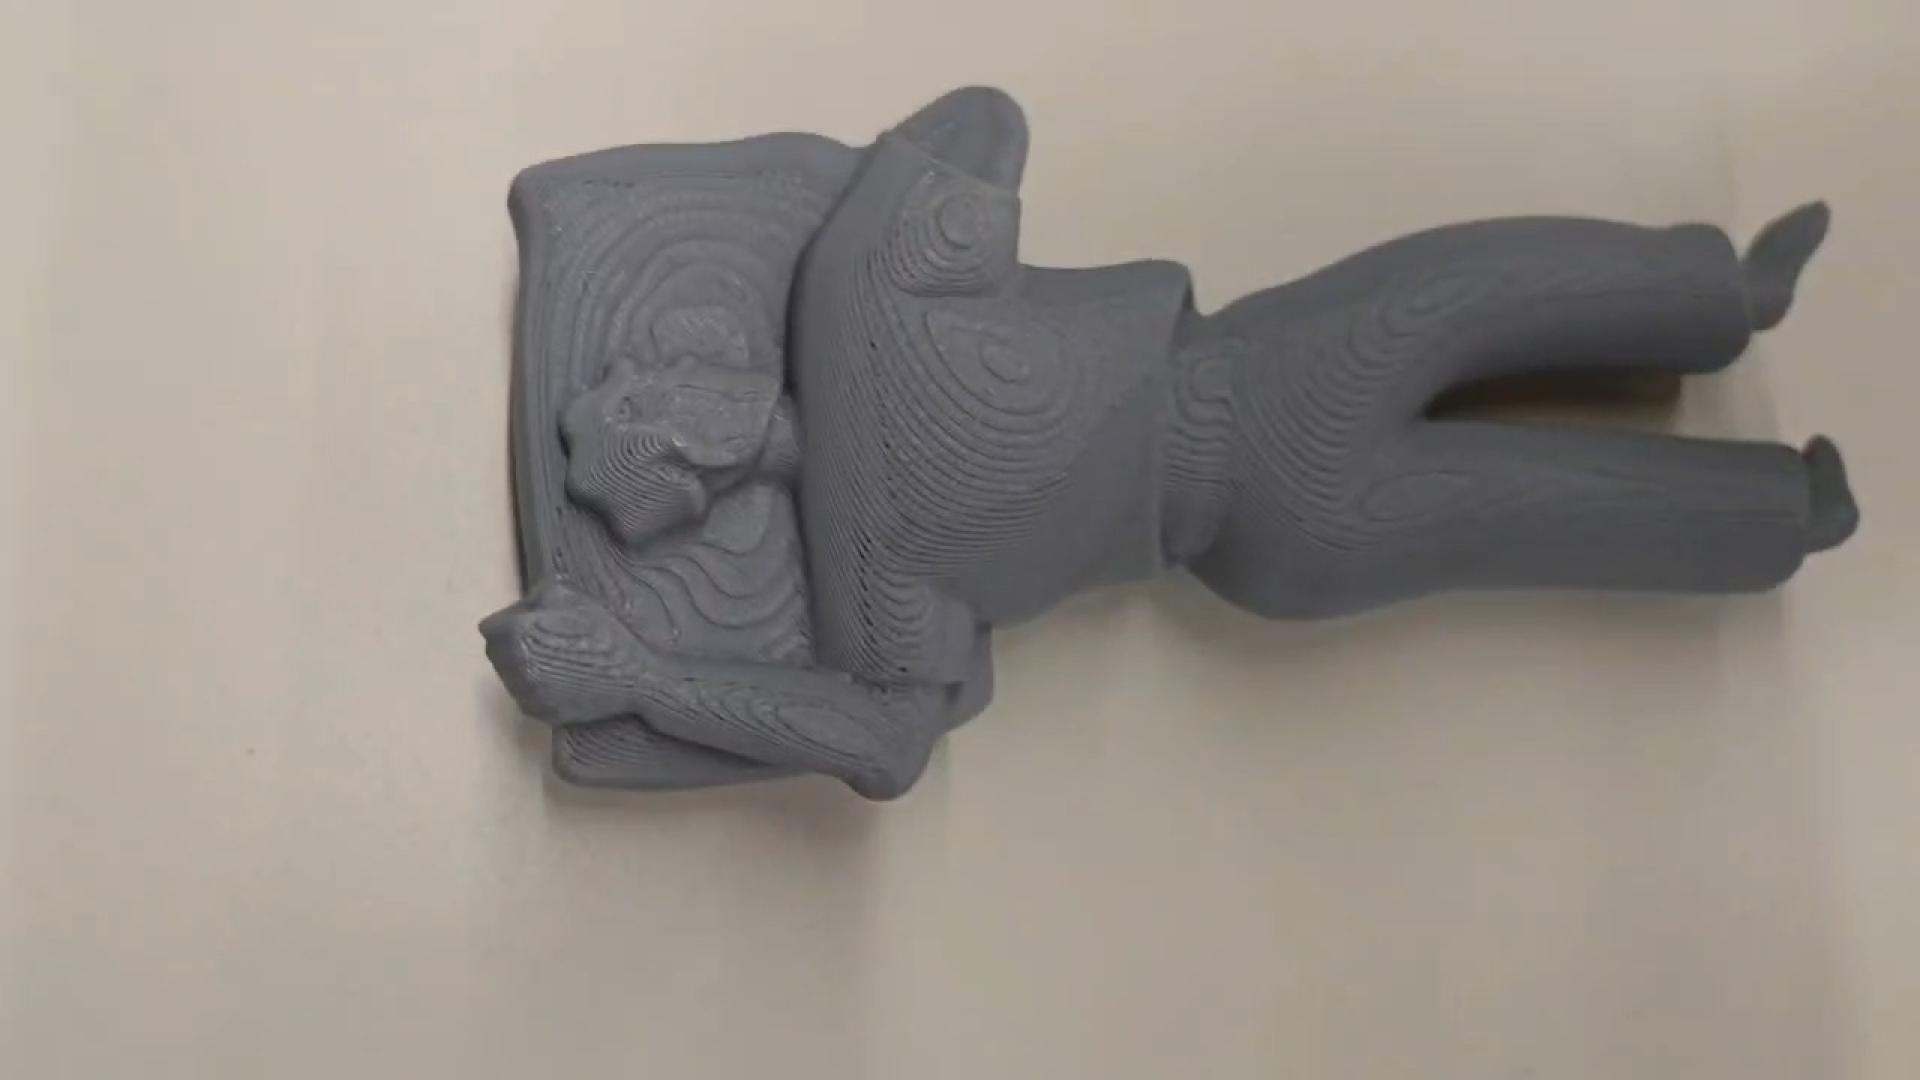Bad-style: (483, 78, 1871, 835)
